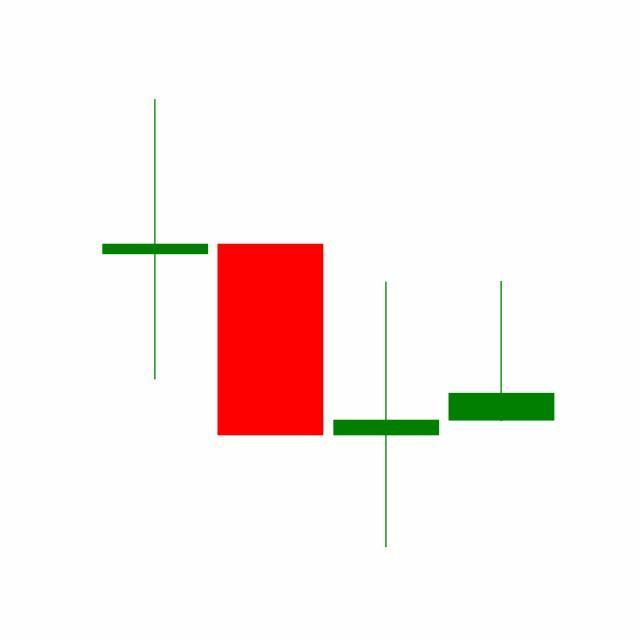Spinning Top: (329, 279, 445, 551)
